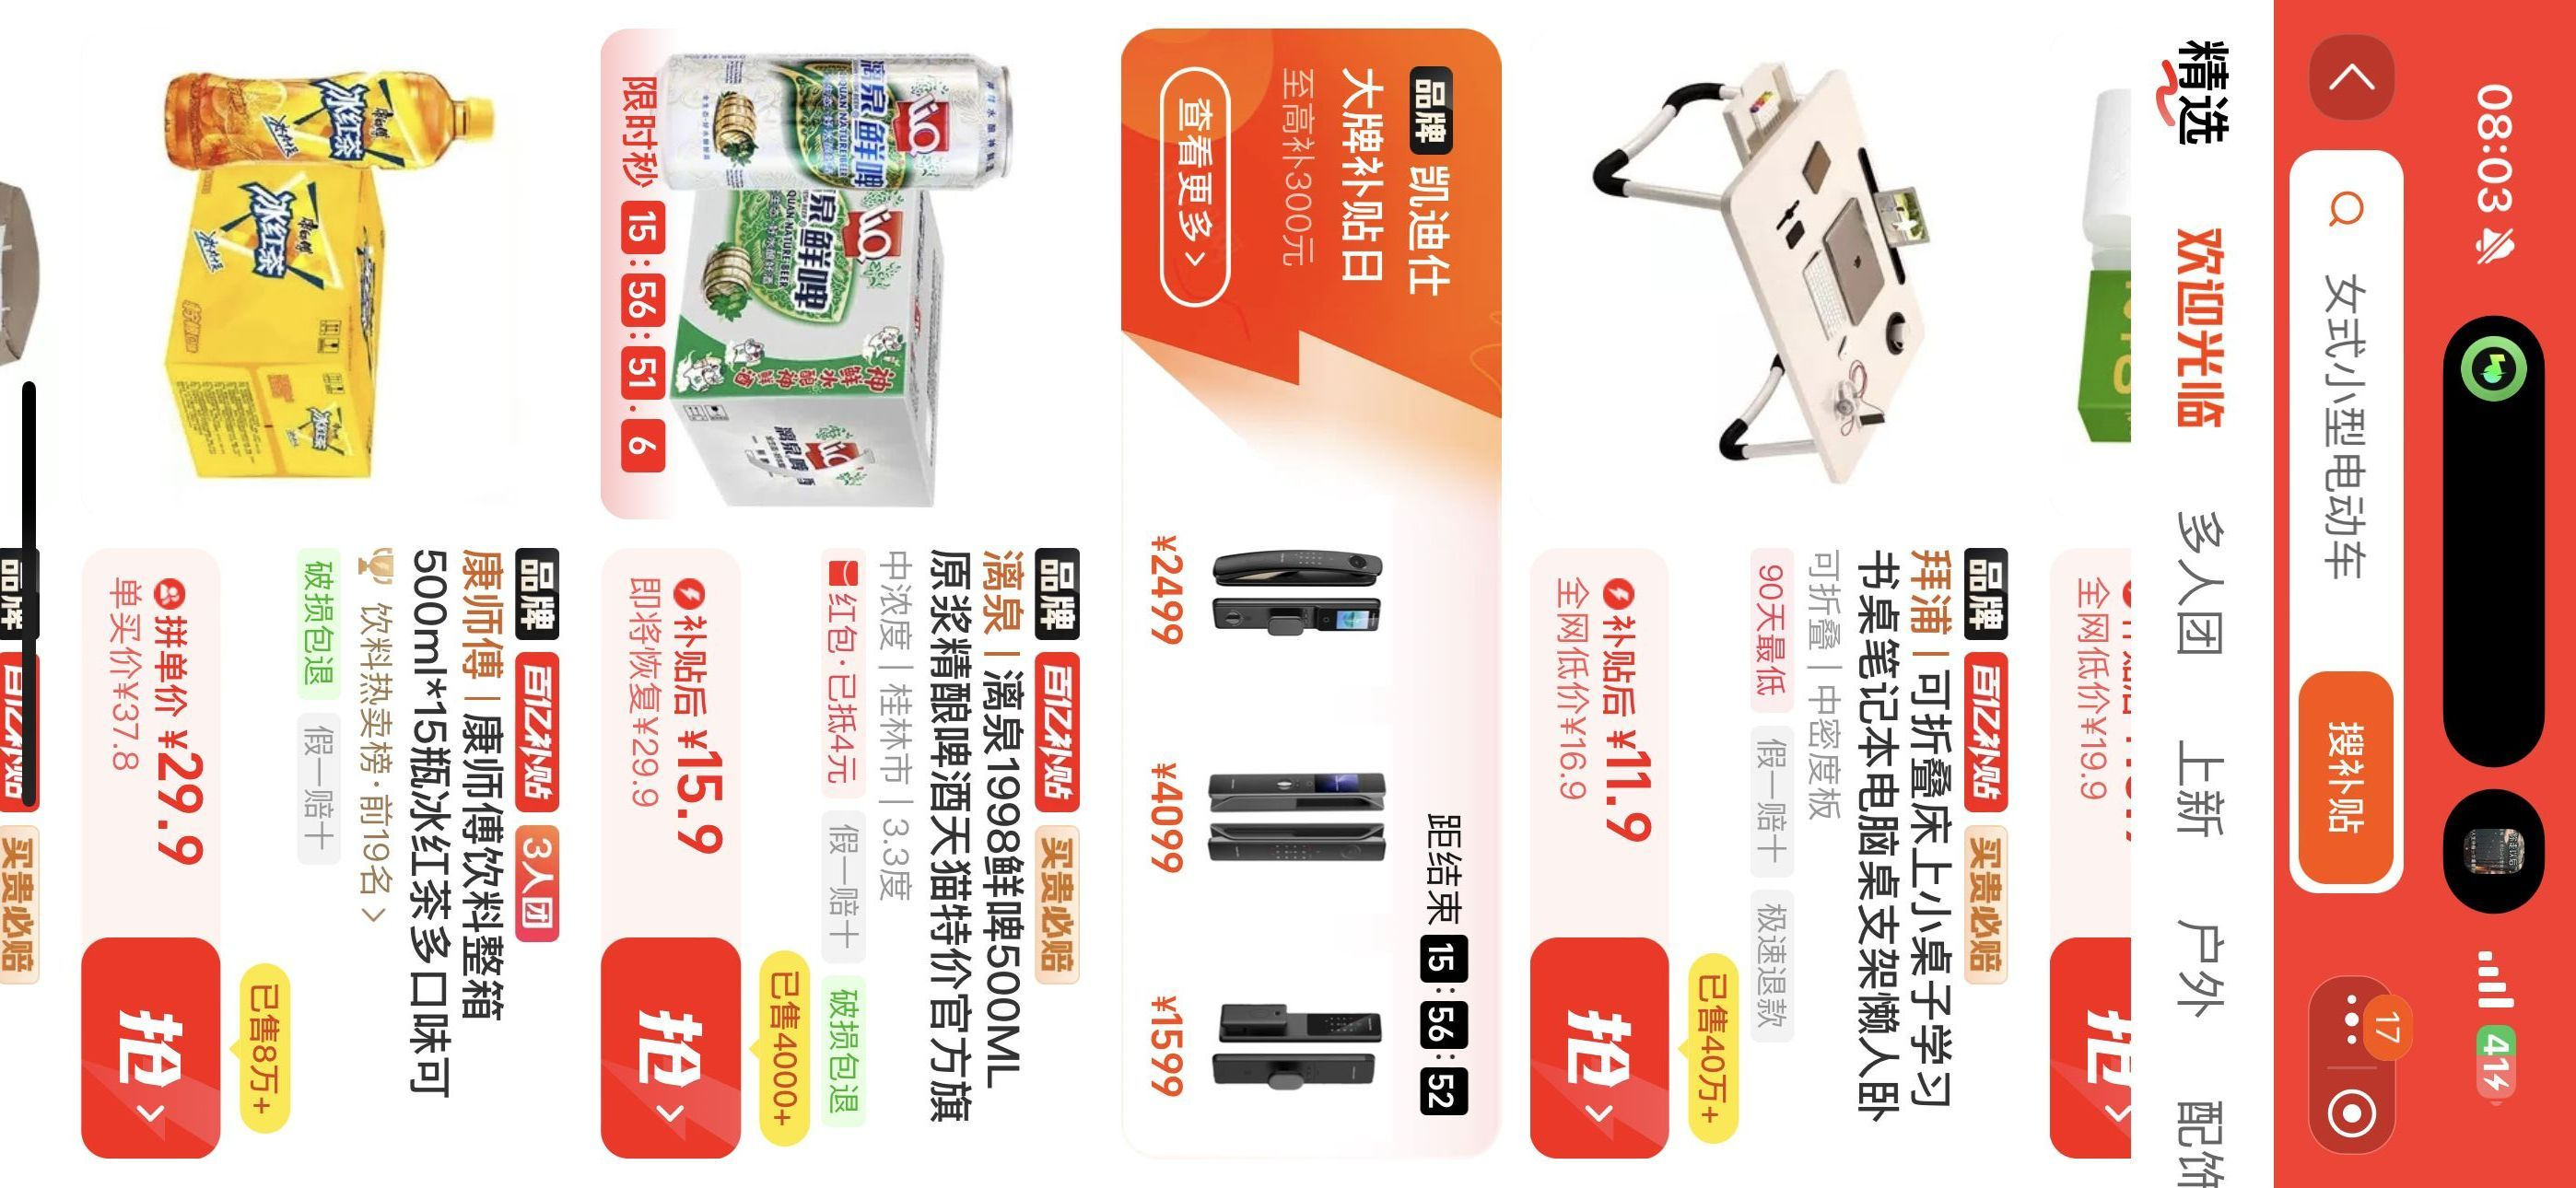banner: (1114, 15, 1513, 1176)
item: (588, 13, 1107, 1188), (1531, 18, 2044, 1188), (77, 8, 585, 1172)
op_bar: (2285, 5, 2431, 1188)
